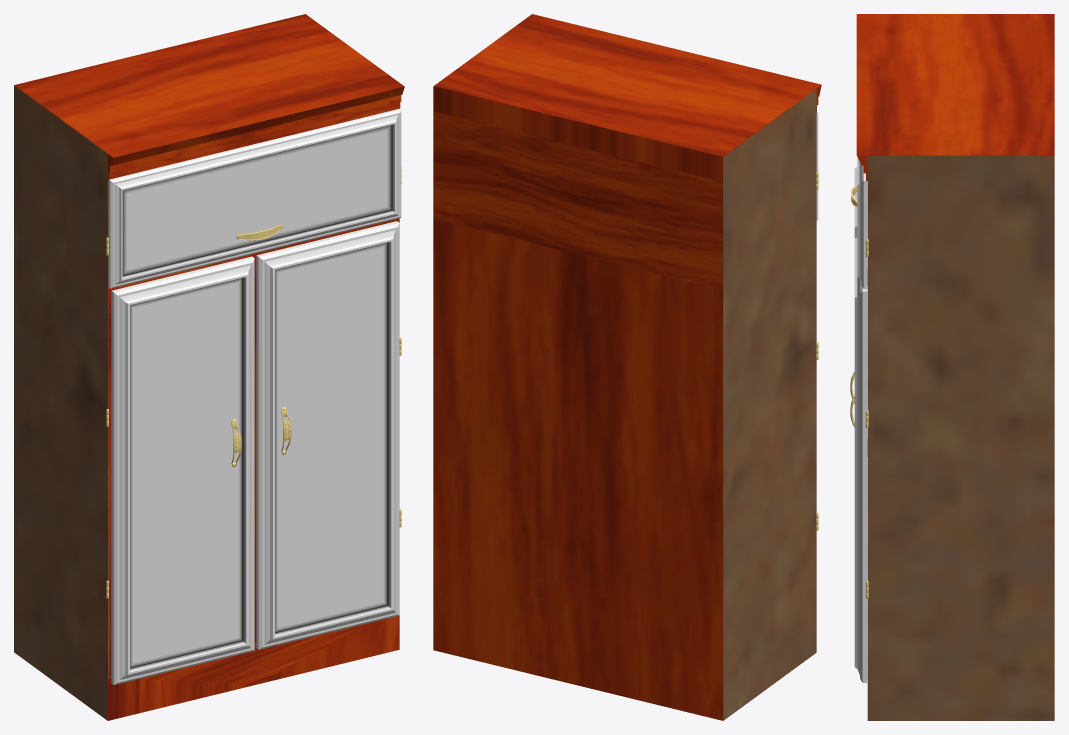
Rendered from wardobe.fbx.
3 renders of one model, left to right at view 1: azimuth 30°, elevation 25°; view 2: azimuth 150°, elevation 25°; view 3: azimuth 270°, elevation 25°, orthographic.
Parts seen in each view (by area): view 1: Doors.003, Doors.002, Plane.016, Plane.009, Plane.014, Plane.015; view 2: Plane.009, Plane.016; view 3: Plane.016, Plane.009, Doors.002, Plane.014.
Part boxes in pixels (box(x1,y1,x2,y2)): Doors.003: box(111, 256, 254, 684); Doors.002: box(256, 221, 399, 649); Plane.016: box(14, 85, 399, 720); Plane.009: box(14, 14, 404, 678); Plane.014: box(108, 108, 401, 288); Plane.015: box(108, 615, 399, 720); Plane.009: box(433, 14, 821, 720); Plane.016: box(723, 89, 816, 720); Plane.016: box(867, 156, 1054, 720); Plane.009: box(856, 14, 1054, 180); Doors.002: box(854, 237, 867, 682); Plane.014: box(857, 157, 867, 288).
Size of the model in its own units: 91.11 by 167 by 54.84.
